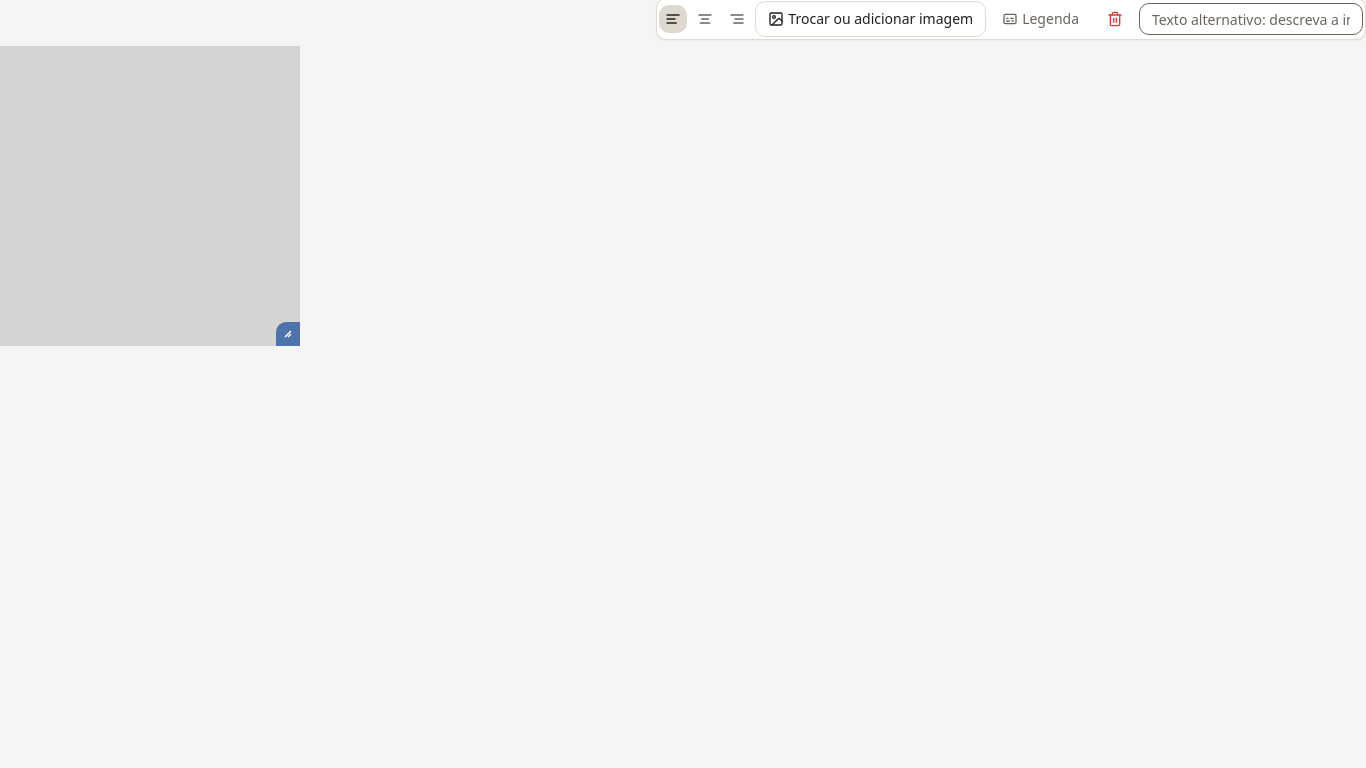
Test: ImageNodeView › não apaga a imagem no clique: abre a confirmação antes (achado 0351)
The width and height of the screenshot is (1366, 768).
Click the button named "Excluir imagem".
click(1115, 19)  # box [1095, 1, 1135, 37]
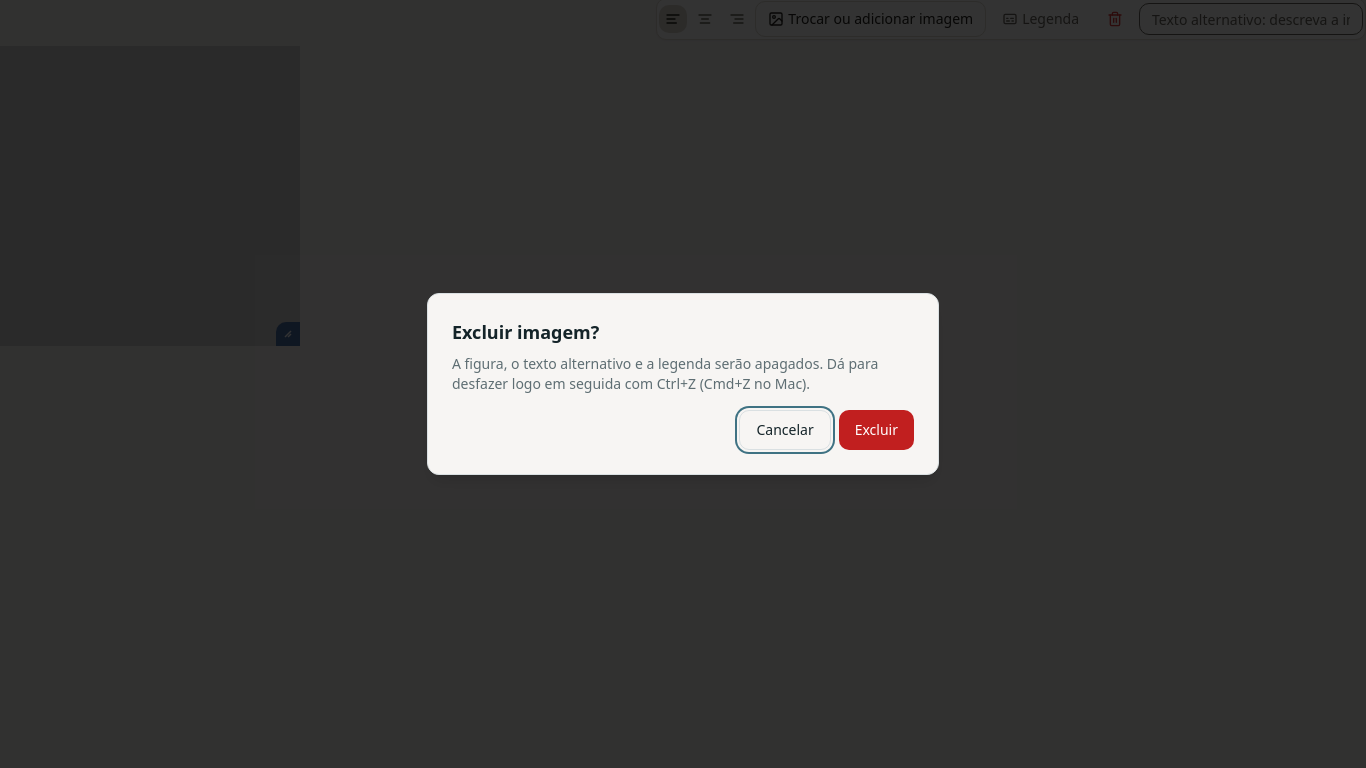
Expected: the heading "Excluir imagem?" is shown, [452, 320, 599, 344]
Expected: the text "texto alternativo e a legenda" is shown, [452, 354, 878, 393]
